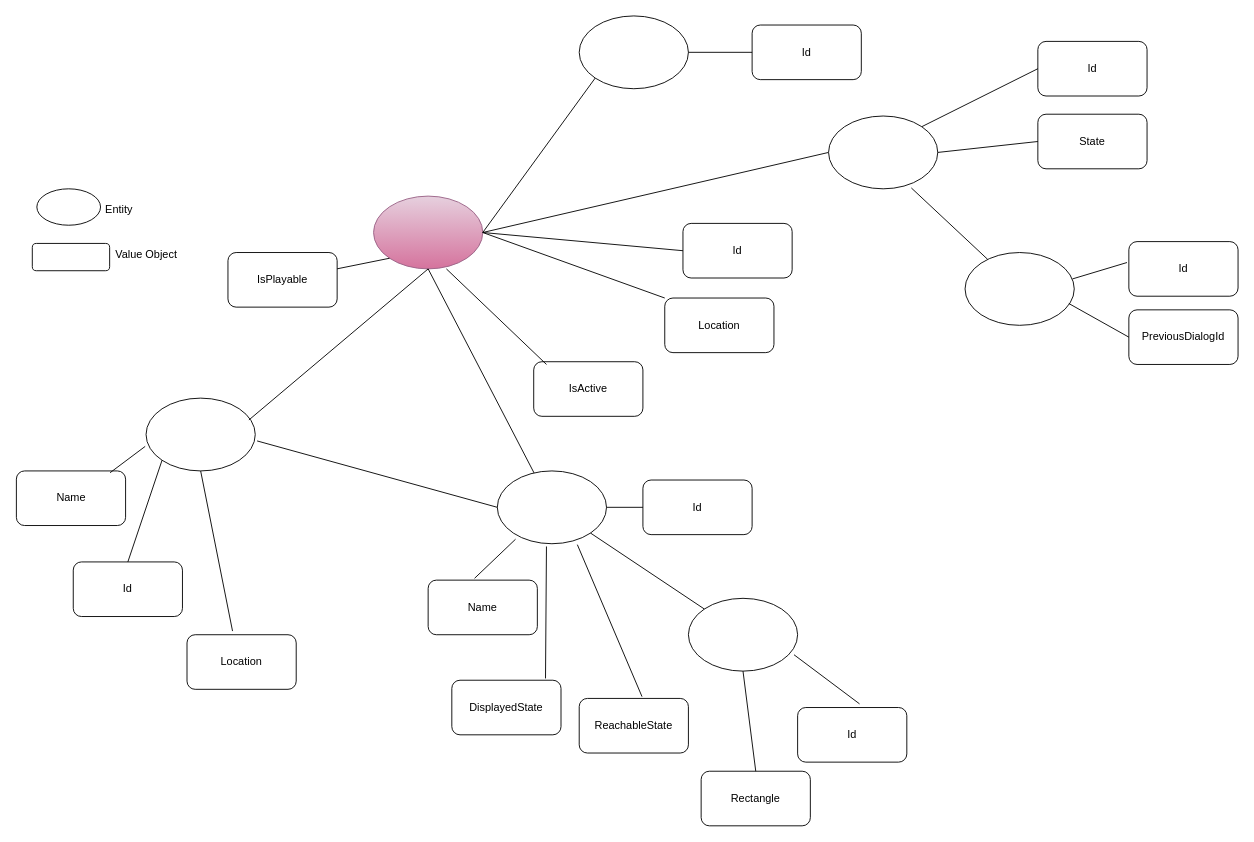
Image size: 1254x842. Some labels were removed from this diagram. Each missing label, with the box of its shape:
ActiveZone: (688, 597, 798, 671)
Character: (373, 195, 483, 269)
Dialog: (964, 252, 1074, 325)
DialogSession: (828, 115, 938, 189)
Item: (145, 397, 255, 471)
Player: (578, 15, 688, 89)
Scene: (496, 470, 607, 544)
